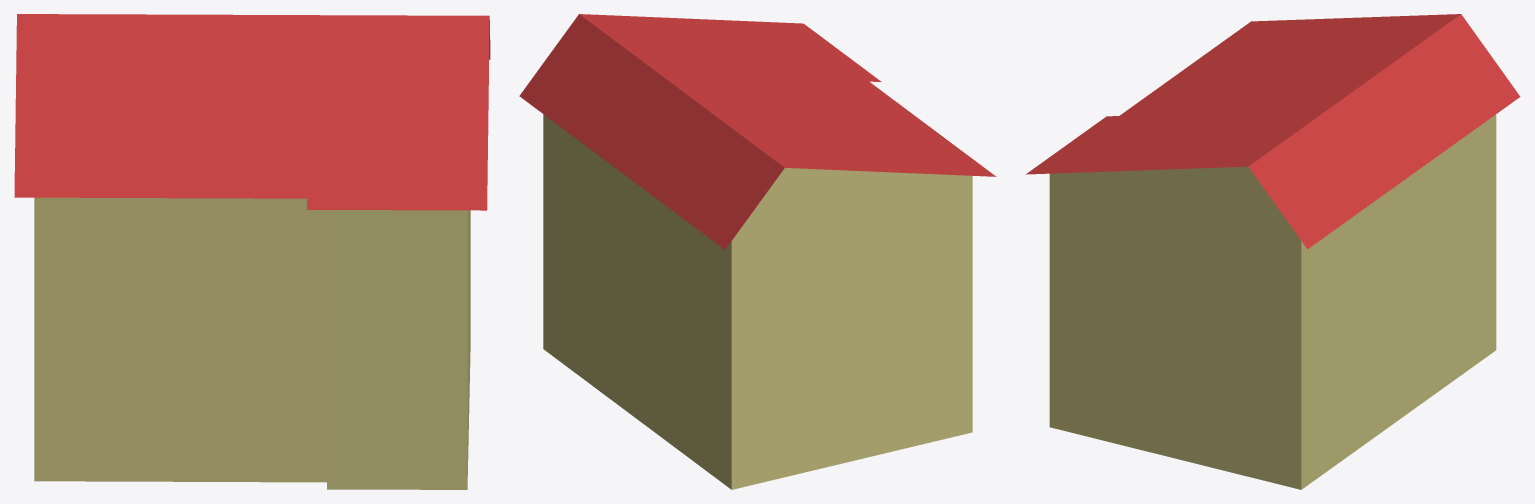
3 renders of one model, left to right at view 1: azimuth 30°, elevation 25°; view 2: azimuth 150°, elevation 25°; view 3: azimuth 270°, elevation 25°, orthographic. The views are drawn at different scales.
Bounding box in the file's own units: 14.8 × 14.09 × 10.01.
